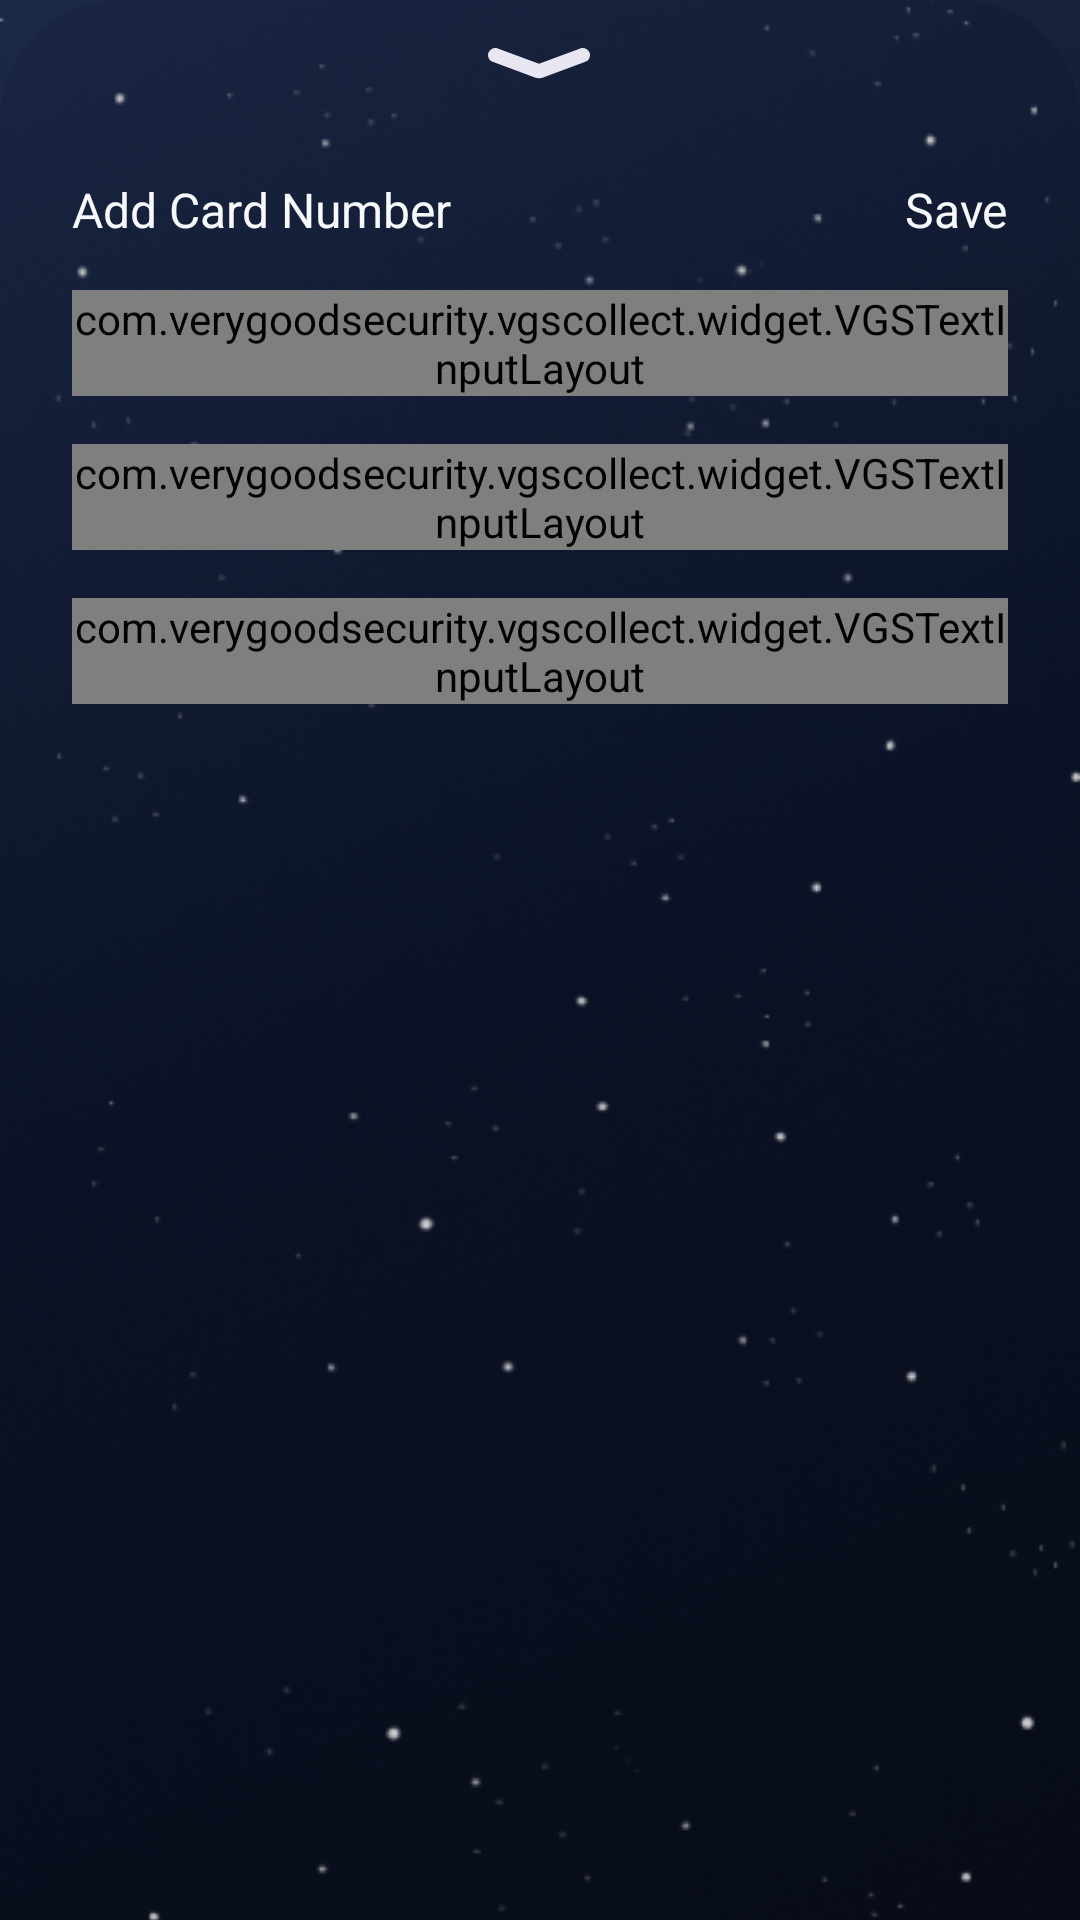

Icon bounding boxes for this 1080 x 1920 phone screenshot, format rect(x1, y1, x2, y2):
arrow down: rect(488, 48, 590, 79)
